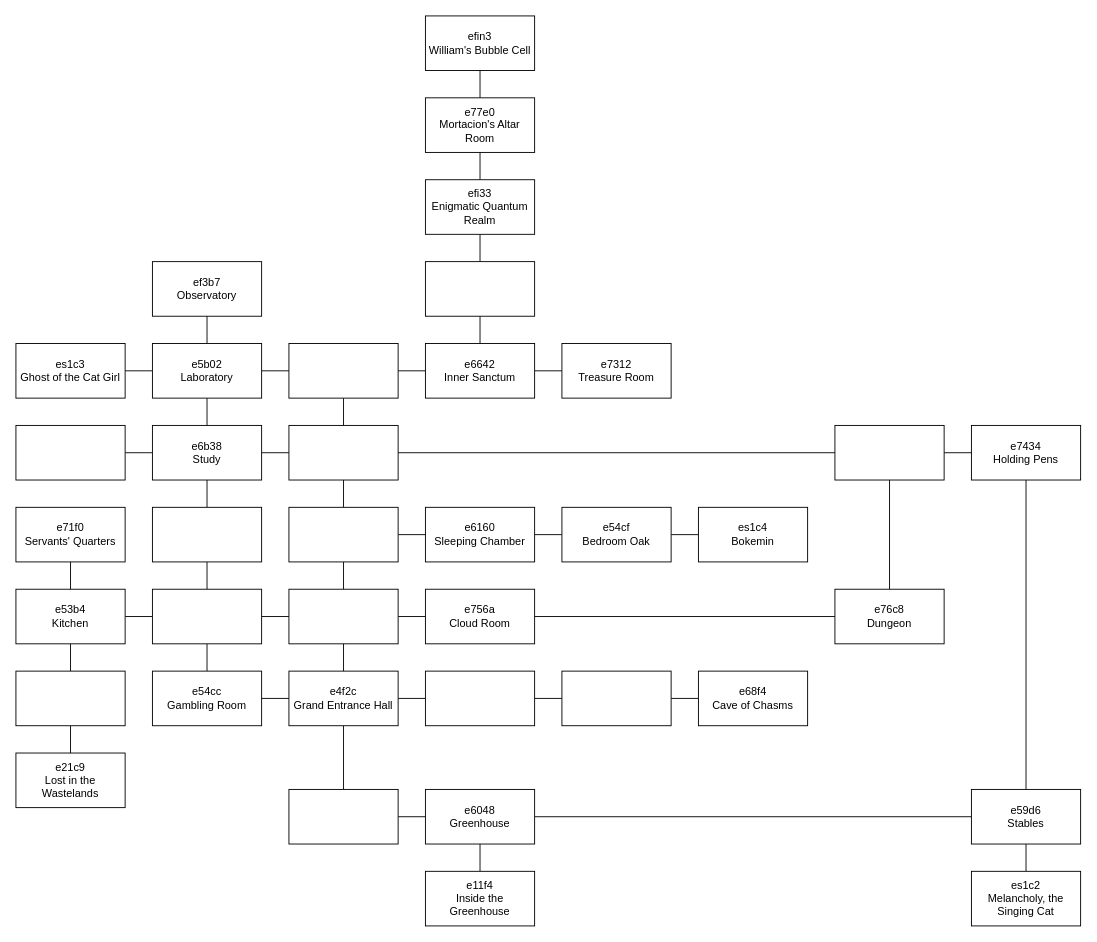
The diagram is 1097 pixels wide and 942 high, and some of its shapes have lost their labels. The shapes that lost their labels are listed below. From the top down, each one's centre as x and y in pixels, then its label:
At (480,288): "efi32 Dimension of Madness".
At (343,370): "e5256 Outer Sanctum".
At (70,452): "ebo13 History of Necromancy".
At (343,452): "e5f26 Chamber of Summoning".
At (889,452): "e5d14 Infirmary".
At (207,534): "e70ce Library".
At (343,534): "e6c64 Conservatory".
At (207,616): "e5e22 Dining Room".
At (343,616): "e67d2 Hall of Chess".
At (70,698): "e6a0c Ethereal Mirror".
At (480,698): "e6d90 Plant Atrium".
At (616,698): "e5c06 Green Maze".
At (343,816): "e8f2c In Front of Mansion".
